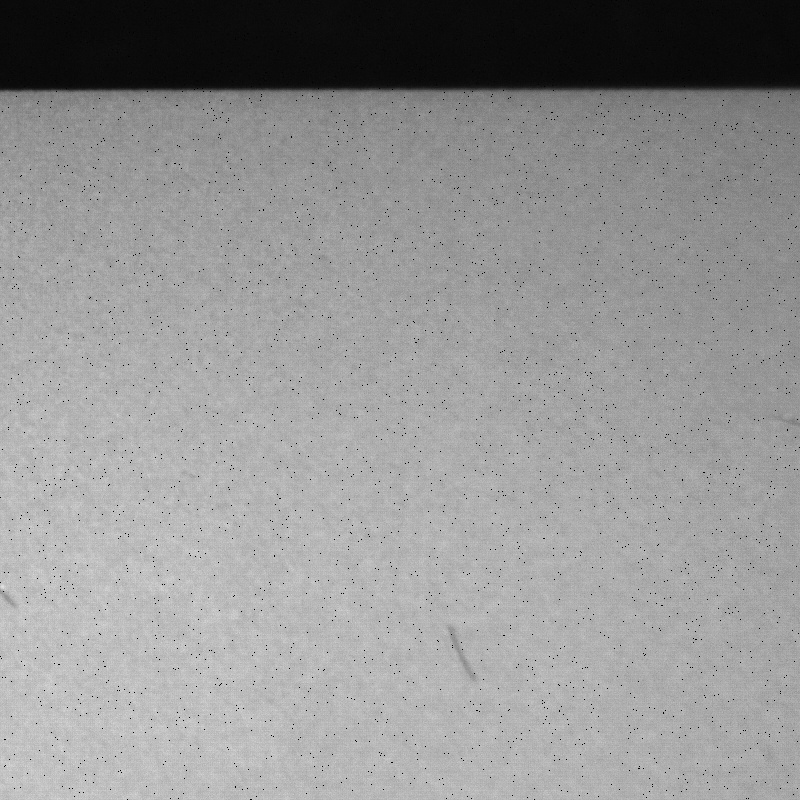defect: (442, 619, 479, 686), (1, 585, 21, 610)
